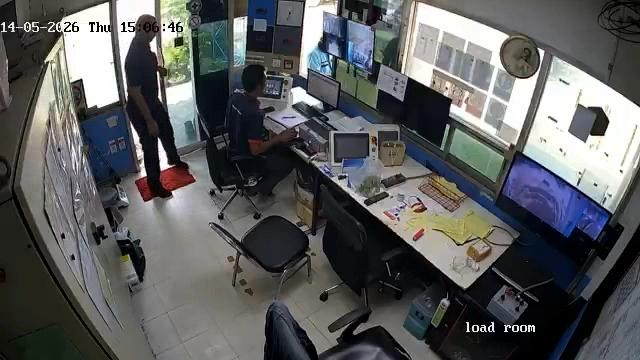Head: (240, 62, 268, 91), (136, 13, 158, 38)
People: (122, 8, 195, 201), (222, 59, 296, 197)
Phone: (262, 106, 275, 114)
